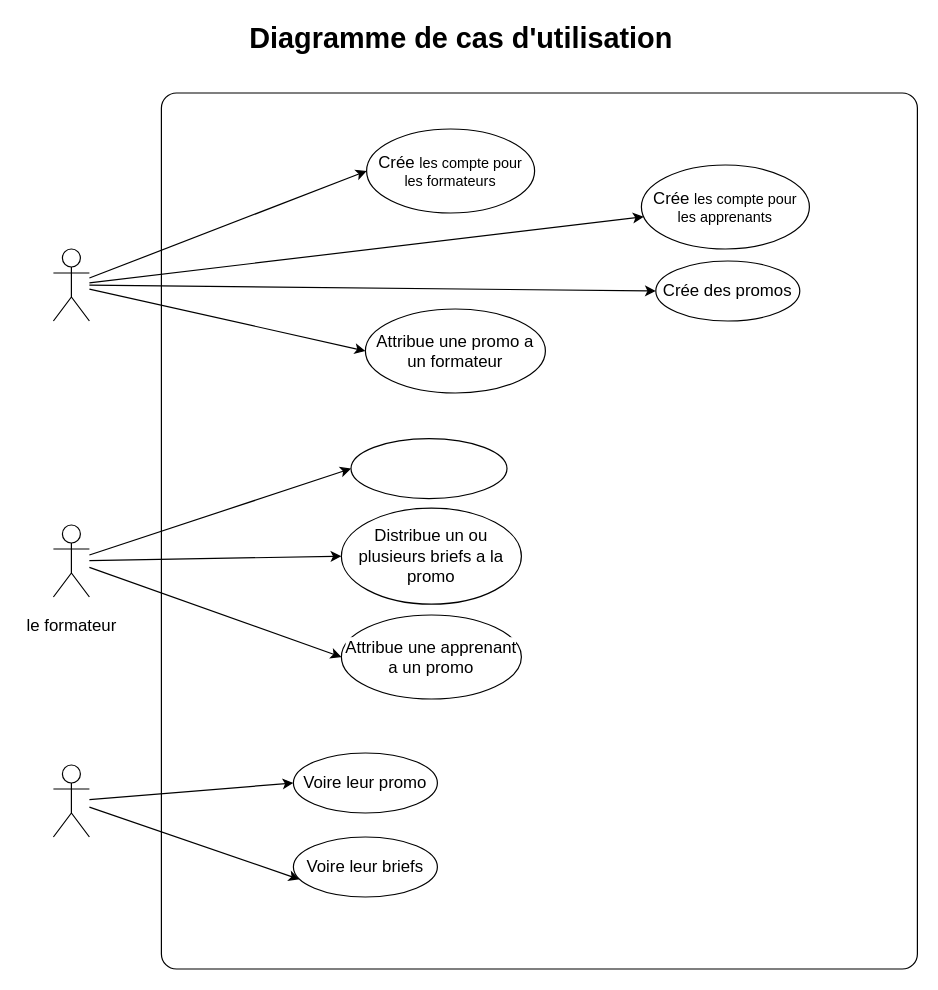
Image size: 938x990. Some labels were removed from this diagram. The centre of each missing label's shape, as x and y in pixels:
Crée des briefs: the point at 428,468
L'administrateur: the point at 70,284
L'apprenant: the point at 70,800
